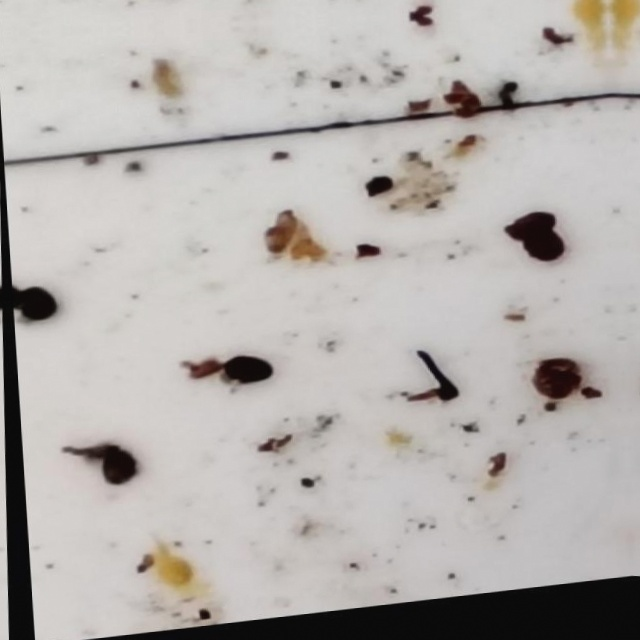varroa: (221, 355, 277, 392), (97, 445, 141, 491), (522, 234, 565, 274), (506, 216, 558, 247), (21, 286, 57, 324), (10, 277, 23, 310)
